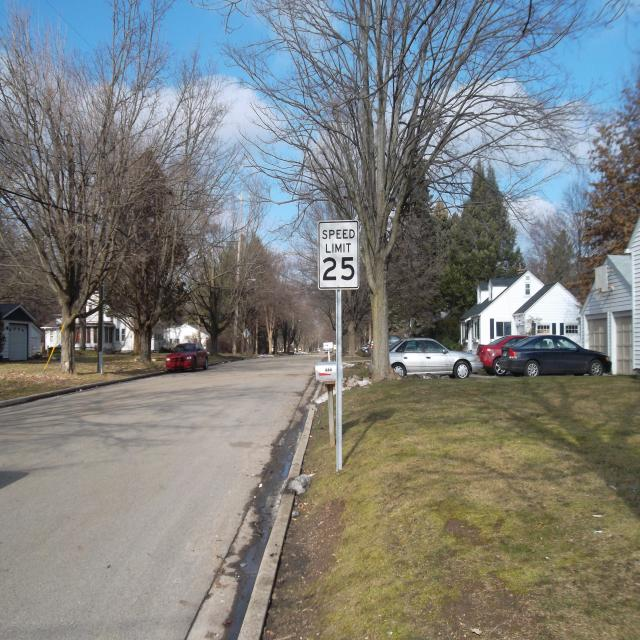regulatory: (316, 218, 360, 291)
